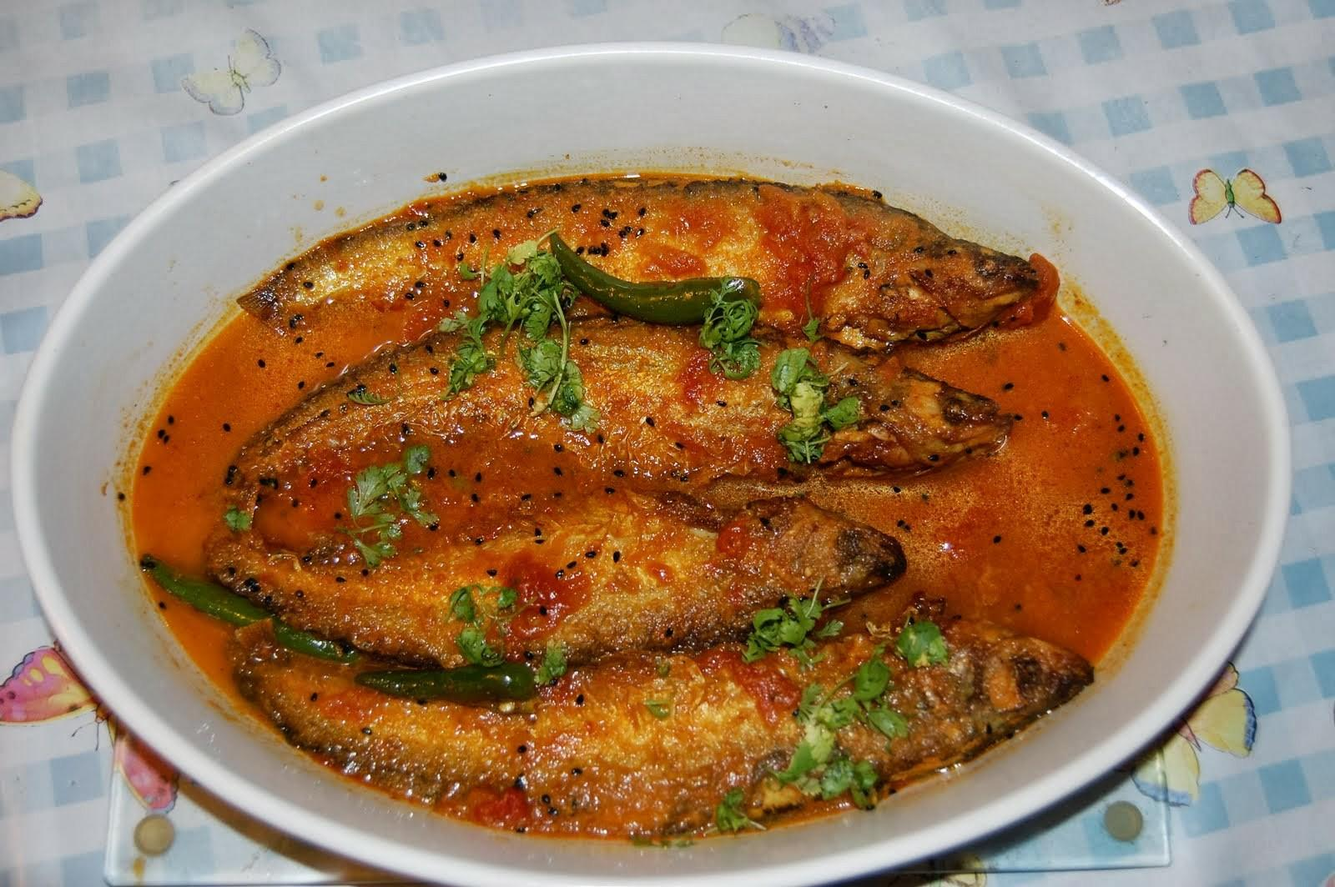FishCurry: (117, 167, 1174, 835)
